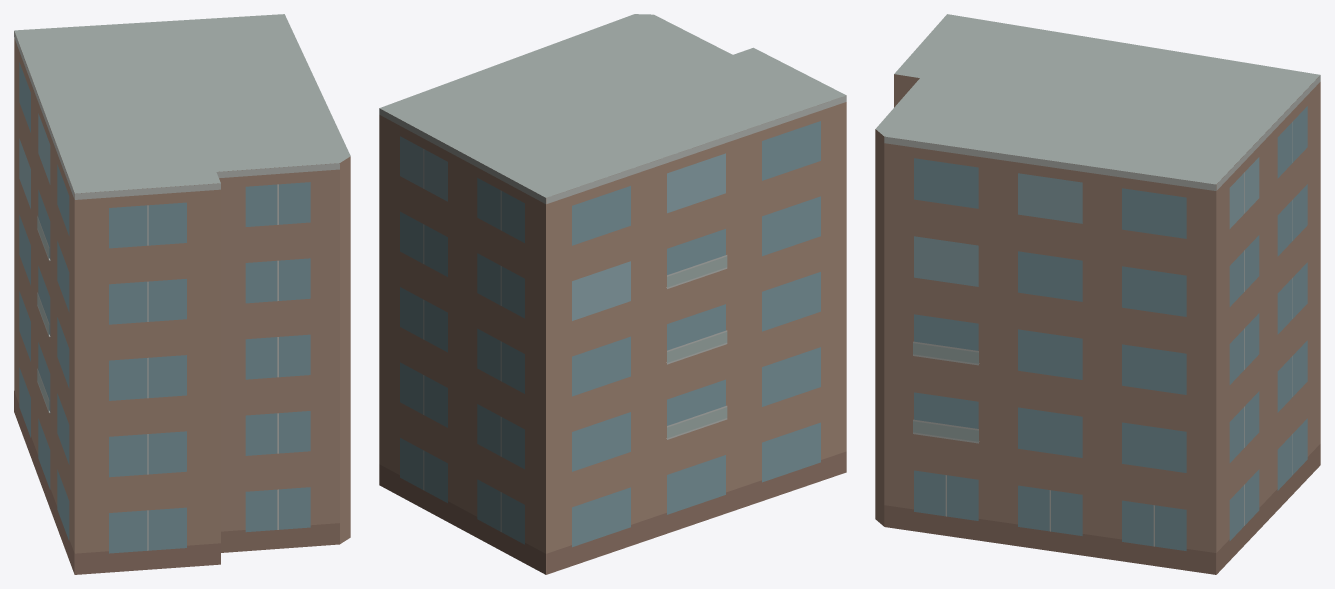
The model's file is survey-upis-32653713.glb.
3 renders of one model, left to right at view 1: azimuth 30°, elevation 25°; view 2: azimuth 150°, elevation 25°; view 3: azimuth 270°, elevation 25°, orthographic. The views are drawn at different scales.
Parts seen in each view (by area): view 1: survey-upis-32653713.tmp; view 2: survey-upis-32653713.tmp; view 3: survey-upis-32653713.tmp.
Boxes of the visible parts, x1,y1,x2,y2 form: survey-upis-32653713.tmp: (14,14,350,574); survey-upis-32653713.tmp: (379,14,846,574); survey-upis-32653713.tmp: (875,14,1320,574).
Size of the model in its own units: 13.5 by 14.4 by 14.89.
